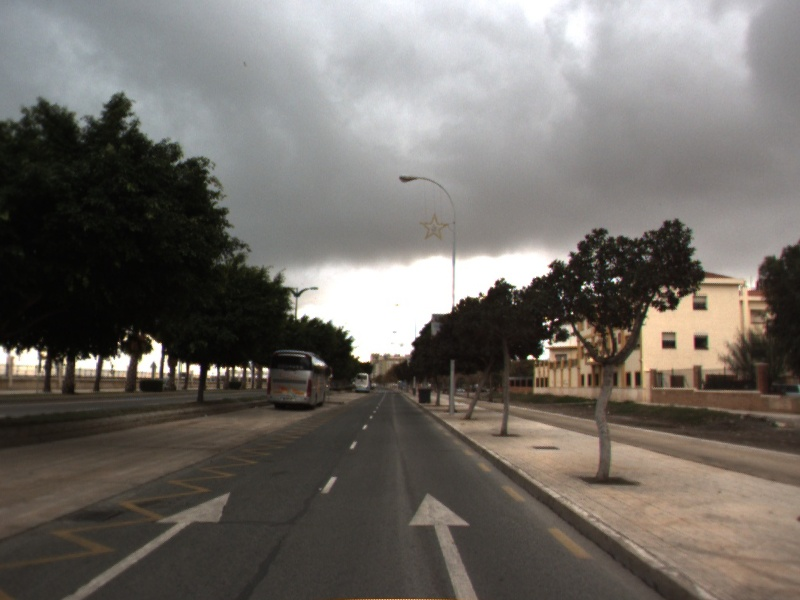STRAIGHT: (56, 486, 234, 600), (405, 489, 481, 600)
